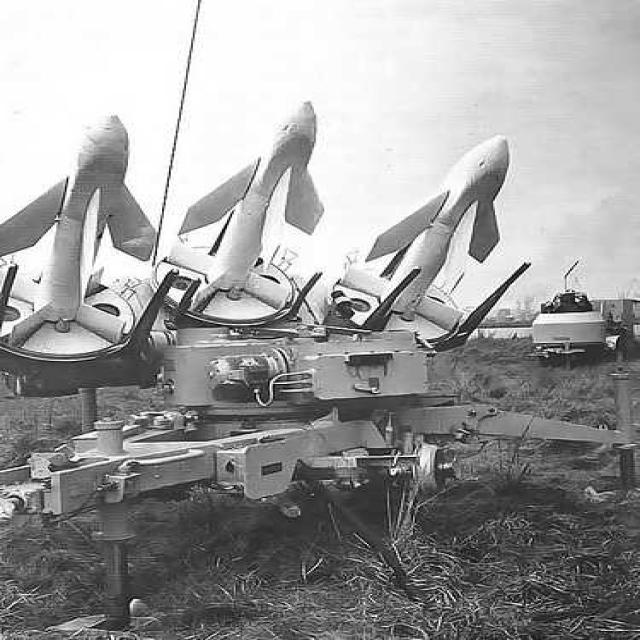missile: (0, 110, 153, 368), (342, 134, 526, 344), (164, 94, 336, 310)
